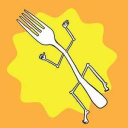fork: (16, 8, 120, 118)
